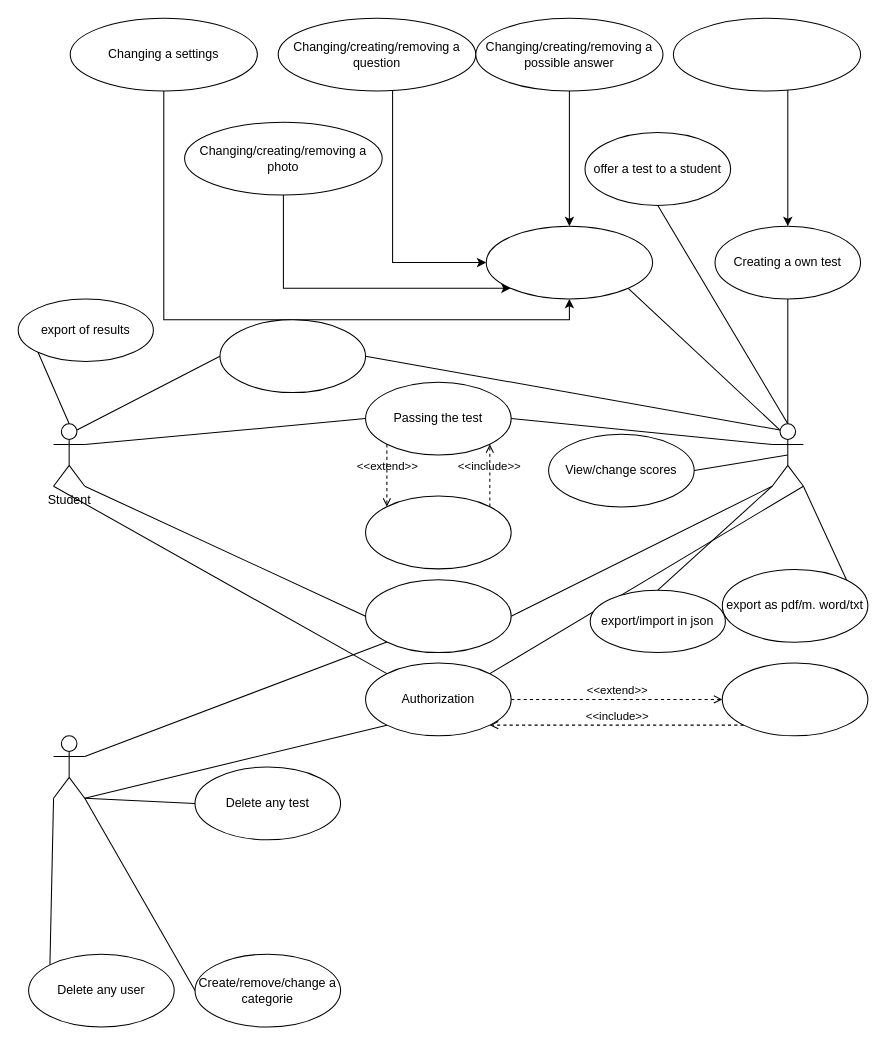
This 886x1045 diagram has some shape labels left out. Here are the shapes that lost their labels. From the top down, the centre of each, then its label:
the point at 766,54: Adding a possible answer/qustion/photo/settings
the point at 569,262: Changing/removing a own test
the point at 292,356: View results
the point at 787,454: Teacher
the point at 438,532: Leaving a review
the point at 438,616: View every categories/tests
the point at 794,699: Registration
the point at 69,766: Admin
